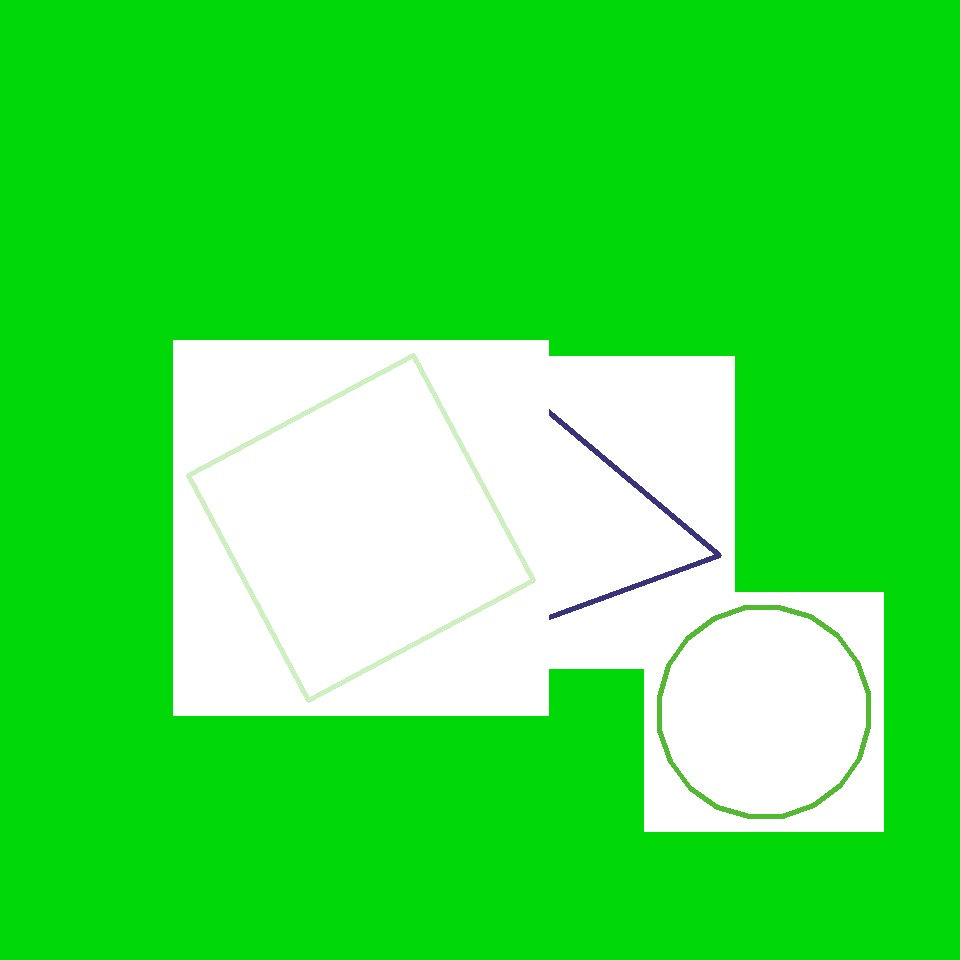circle: (422, 386, 692, 668)
square: (188, 356, 534, 700), (554, 451, 856, 752), (211, 234, 502, 526), (326, 414, 476, 564)
triangle: (659, 608, 868, 816)
